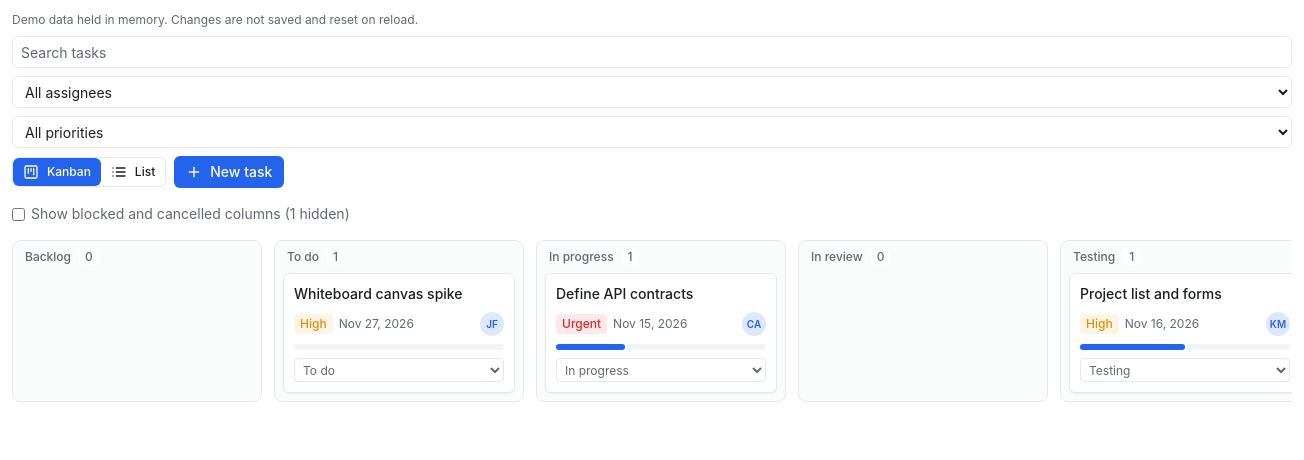
Test: TasksView › reveals blocked tasks on request and switches to the list view
Check: the text "Project list and forms" is shown, box [1080,285,1222,302]
What coordinates should you click on to do the following:
click the checkbox labelled "Show blocked and cancelled columns (1 hidden)"
I would click on:
 (18, 214)
Its box is [12,208,25,220].
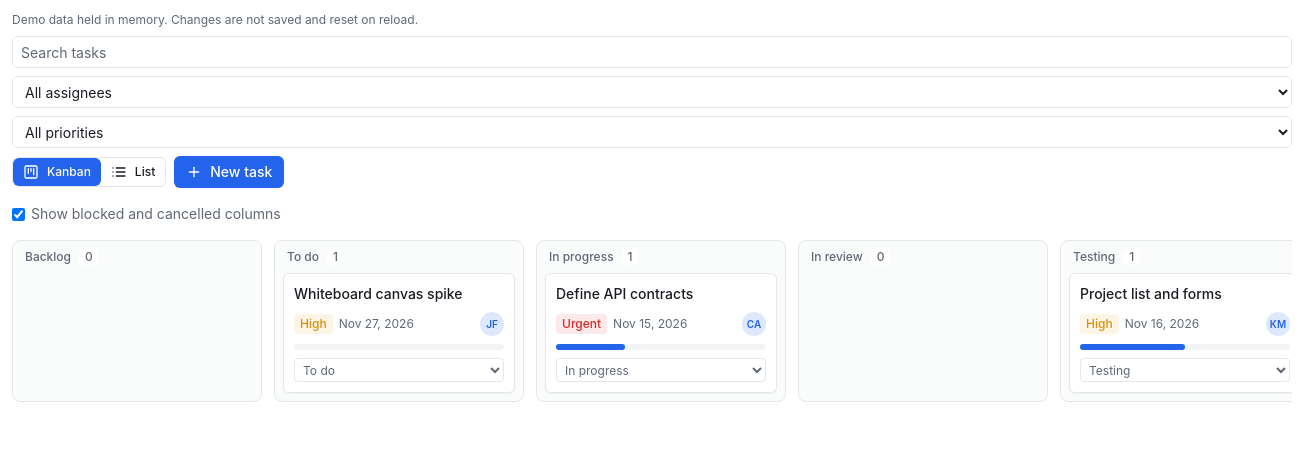
What coordinates should you click on to do the following:
click the button "List"
I would click on:
 (133, 172)
Its box is [101,158,165,186].
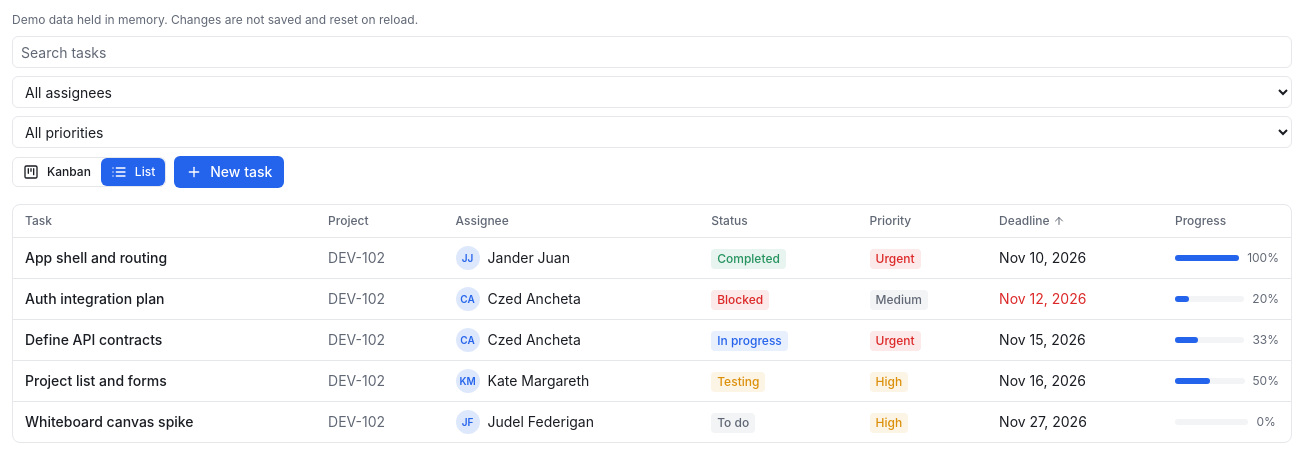
Check: the column heading "Deadline" is shown, box [987,205,1163,238]
